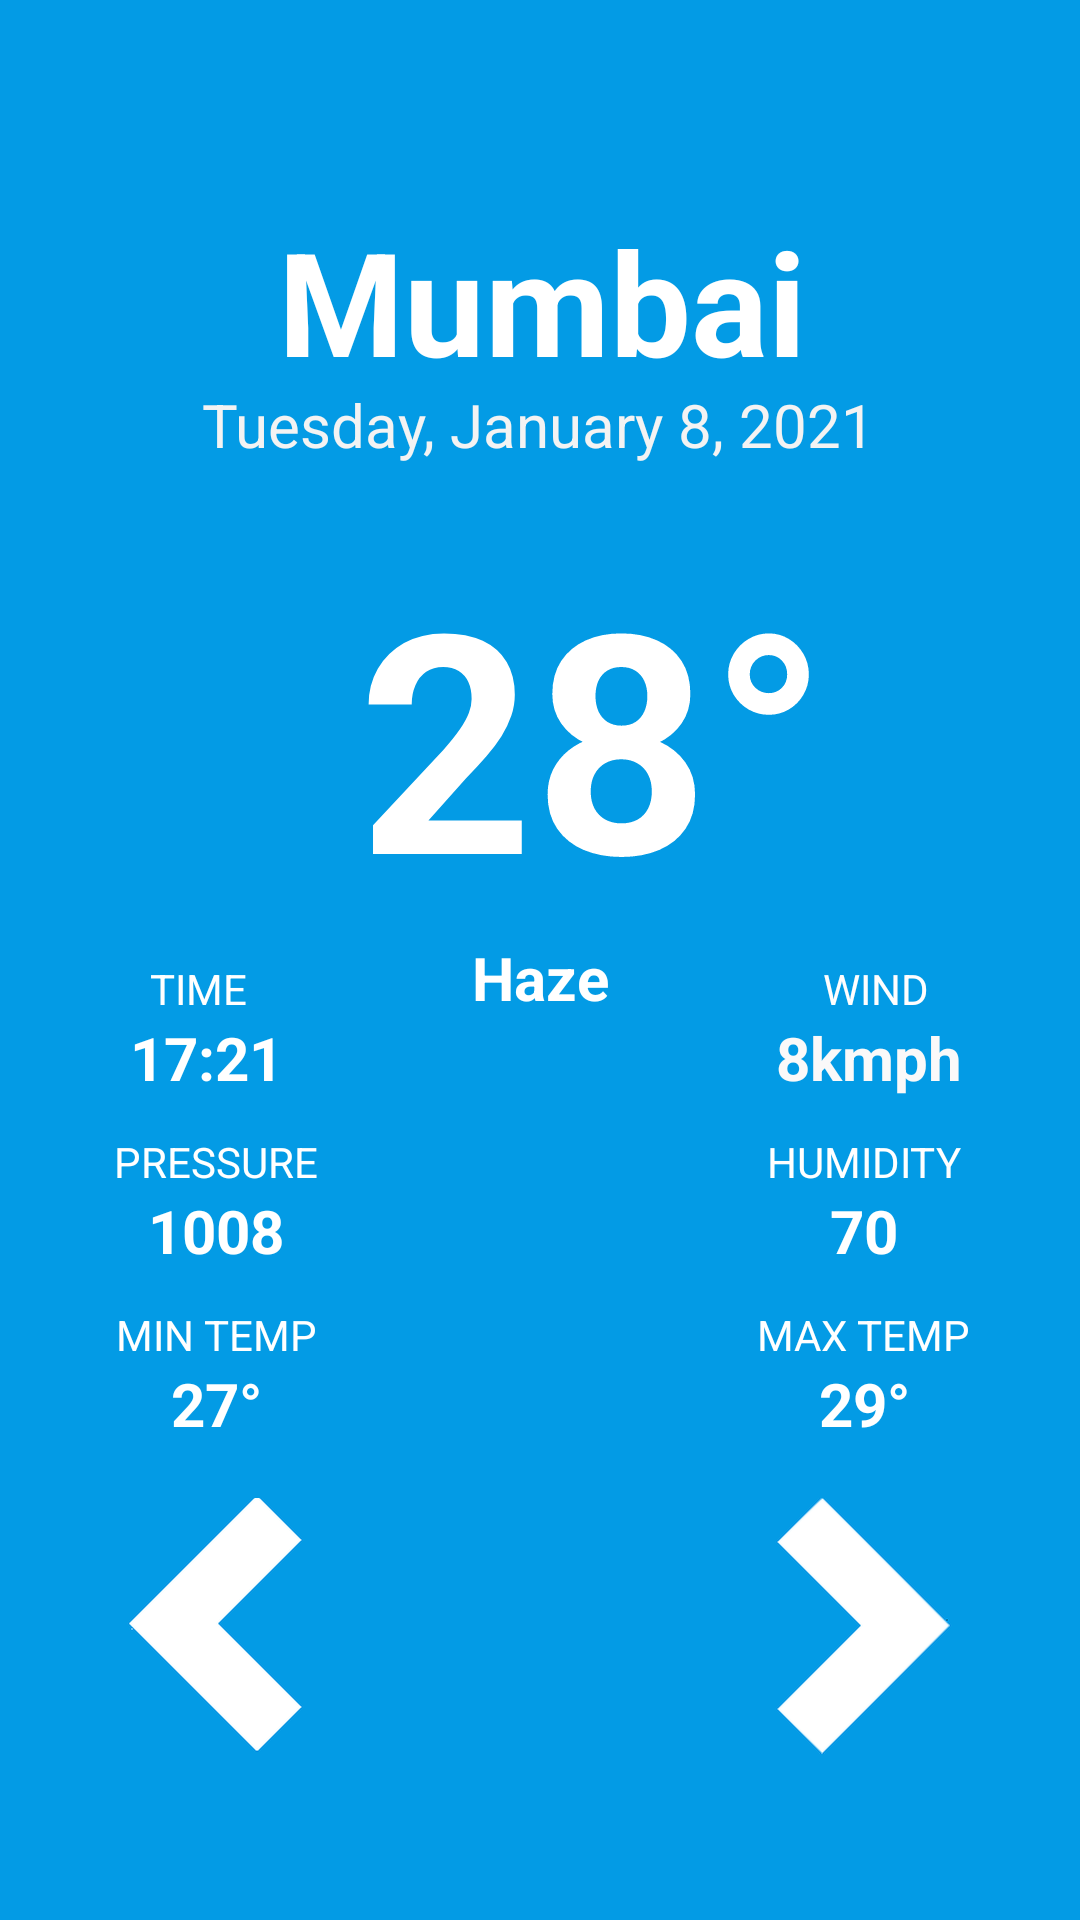

Icons on this 1080px x 1920px Android screen, each with the point to tap as (x,y):
leftarroww: (215,1624)
rightarrow: (863,1626)
